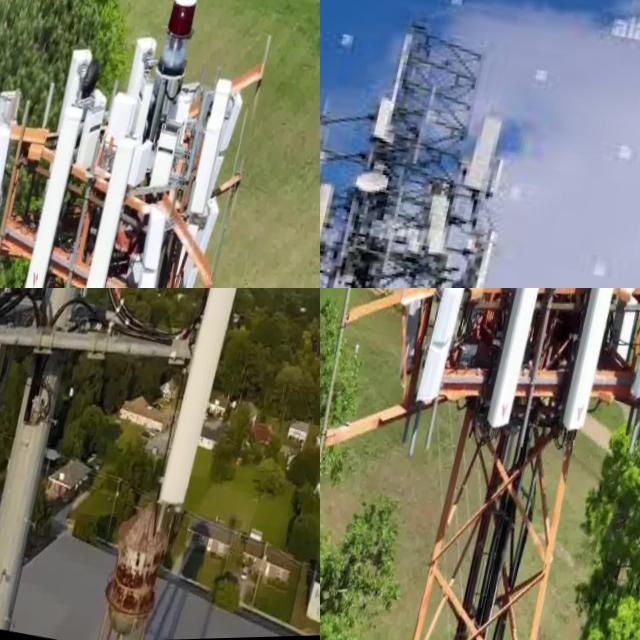GSM Antenna: (159, 288, 245, 517), (18, 92, 92, 288), (69, 127, 144, 288), (483, 288, 560, 437), (559, 288, 631, 438), (0, 288, 58, 440), (180, 77, 241, 219), (414, 288, 469, 405), (450, 110, 513, 198), (119, 202, 178, 288), (389, 288, 438, 366), (52, 288, 117, 346), (411, 198, 465, 267), (0, 111, 21, 247), (345, 159, 399, 202), (320, 179, 343, 265), (627, 288, 640, 410)
